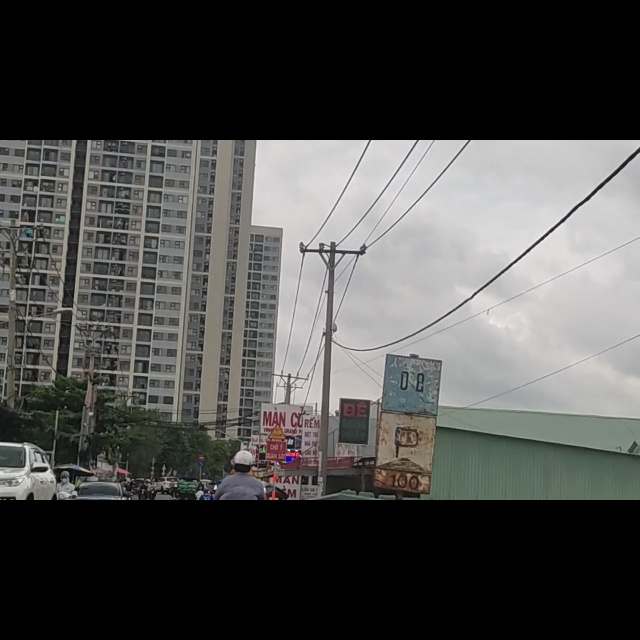bien_nguy_hiem: (267, 504, 287, 533)
